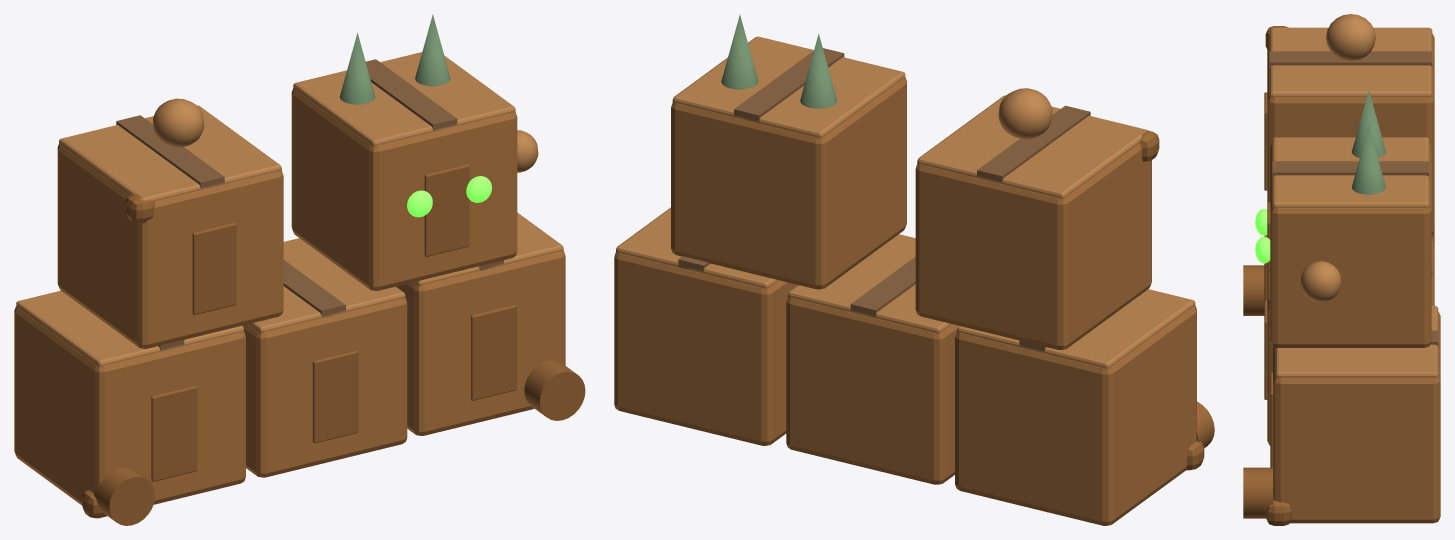
Rendered from zc_cardboard_barricade.mobile-high.glb.
3 renders of one model, left to right at view 1: azimuth 30°, elevation 25°; view 2: azimuth 150°, elevation 25°; view 3: azimuth 270°, elevation 25°, orthographic. The views are drawn at different scales.
Visible parts, largest first — view 1: zc_cardboard_barricade; view 2: zc_cardboard_barricade; view 3: zc_cardboard_barricade.
Boxes of the visible parts, box(x1,y1,x2,y2) form: zc_cardboard_barricade: box(14, 14, 585, 525); zc_cardboard_barricade: box(614, 14, 1214, 525); zc_cardboard_barricade: box(1243, 14, 1440, 525).
Bounding box in the file's own units: 1.81 × 1.33 × 0.66.
1 material, 1 textured.
